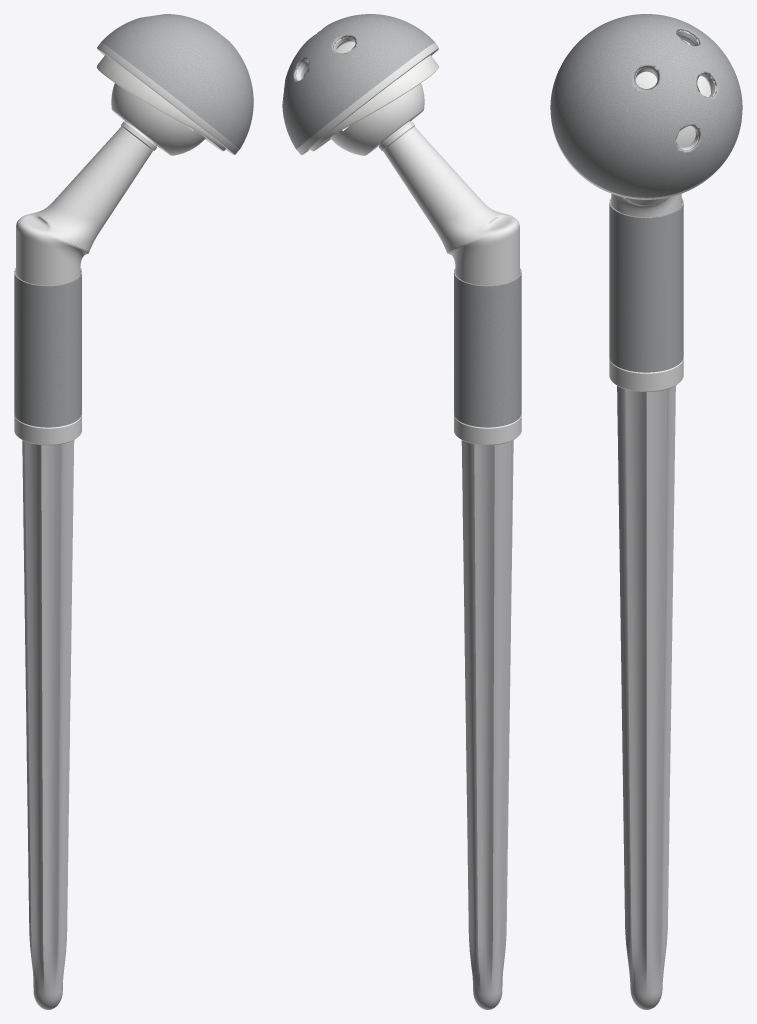
File: revision_metal_lod0.glb
3 views of the same model, side by side, from view 1: azimuth 30°, elevation 25°; view 2: azimuth 150°, elevation 25°; view 3: azimuth 270°, elevation 25° (orthographic). The views are drawn at different scales.
Parts seen in each view (by area): view 1: stem, cup.003, head.002, liner.001; view 2: stem, cup.003, head.002, liner.001; view 3: stem, cup.003, liner.001.
Boxes of the visible parts, x1,y1,x2,y2 form: stem: (14,121,156,1009); cup.003: (97,14,253,154); head.002: (111,83,205,155); liner.001: (96,55,225,151); stem: (379,121,521,1009); cup.003: (282,14,438,154); head.002: (330,83,424,155); liner.001: (303,41,438,151); stem: (609,194,683,1009); cup.003: (550,14,742,199); liner.001: (635,40,710,147).
Bounding box in the file's own units: 0.076 × 0.312 × 0.0518.
Materials: 5 (1 with a texture image).
